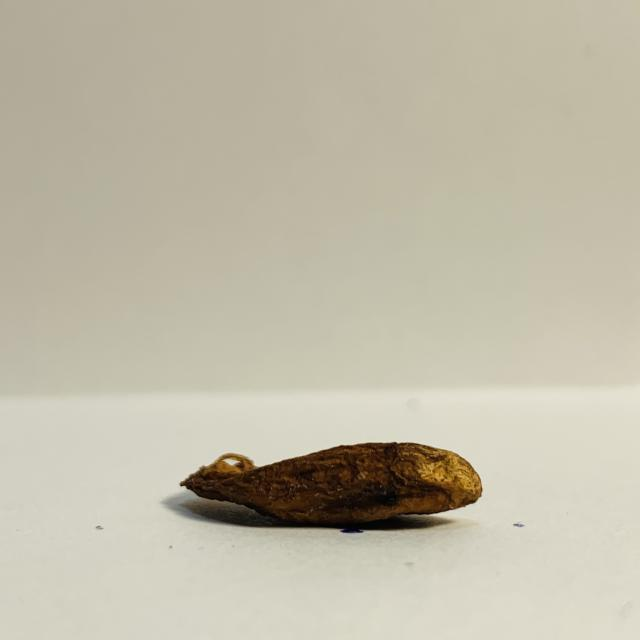Flat_cocoabeans: (92, 404, 609, 564)
